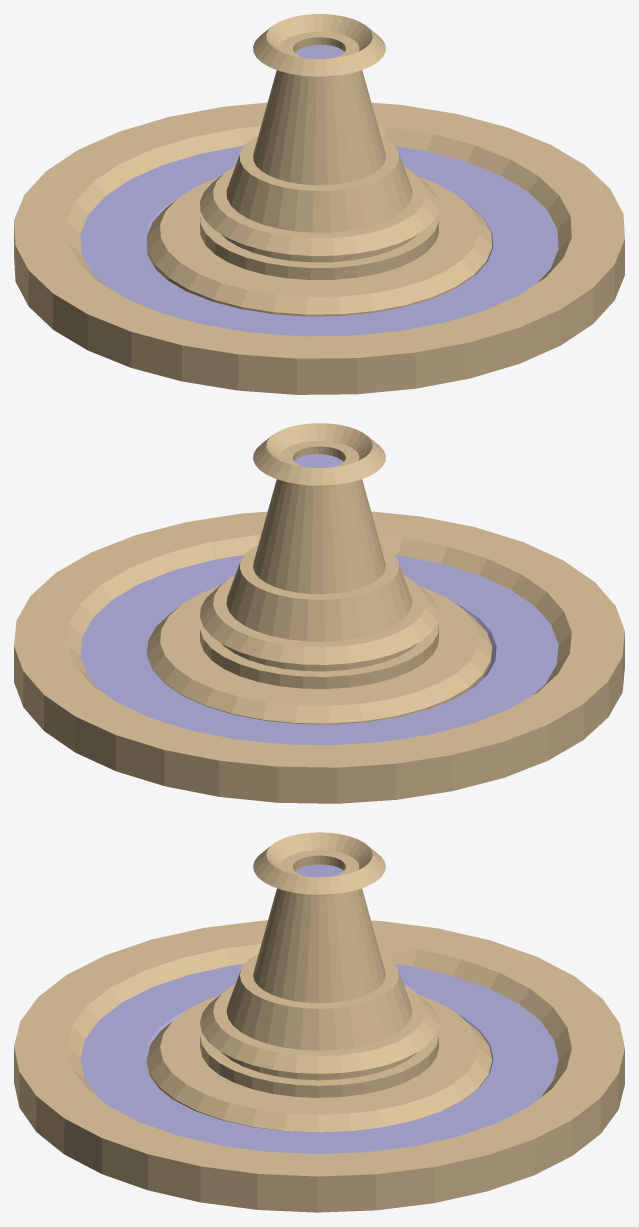
The model's file is fountain1.gltf.
The picture shows the model from 3 angles, top to bottom: view 1: azimuth 30°, elevation 25°; view 2: azimuth 150°, elevation 25°; view 3: azimuth 270°, elevation 25°; orthographic projection.
Parts seen in each view (by area): view 1: fuente; view 2: fuente; view 3: fuente.
Part boxes in pixels (bbox=[...]): fuente: bbox=[14, 14, 624, 394]; fuente: bbox=[14, 423, 624, 803]; fuente: bbox=[14, 832, 624, 1212].
Size of what is drawn, in the model's own units: 315 by 130 by 315.
